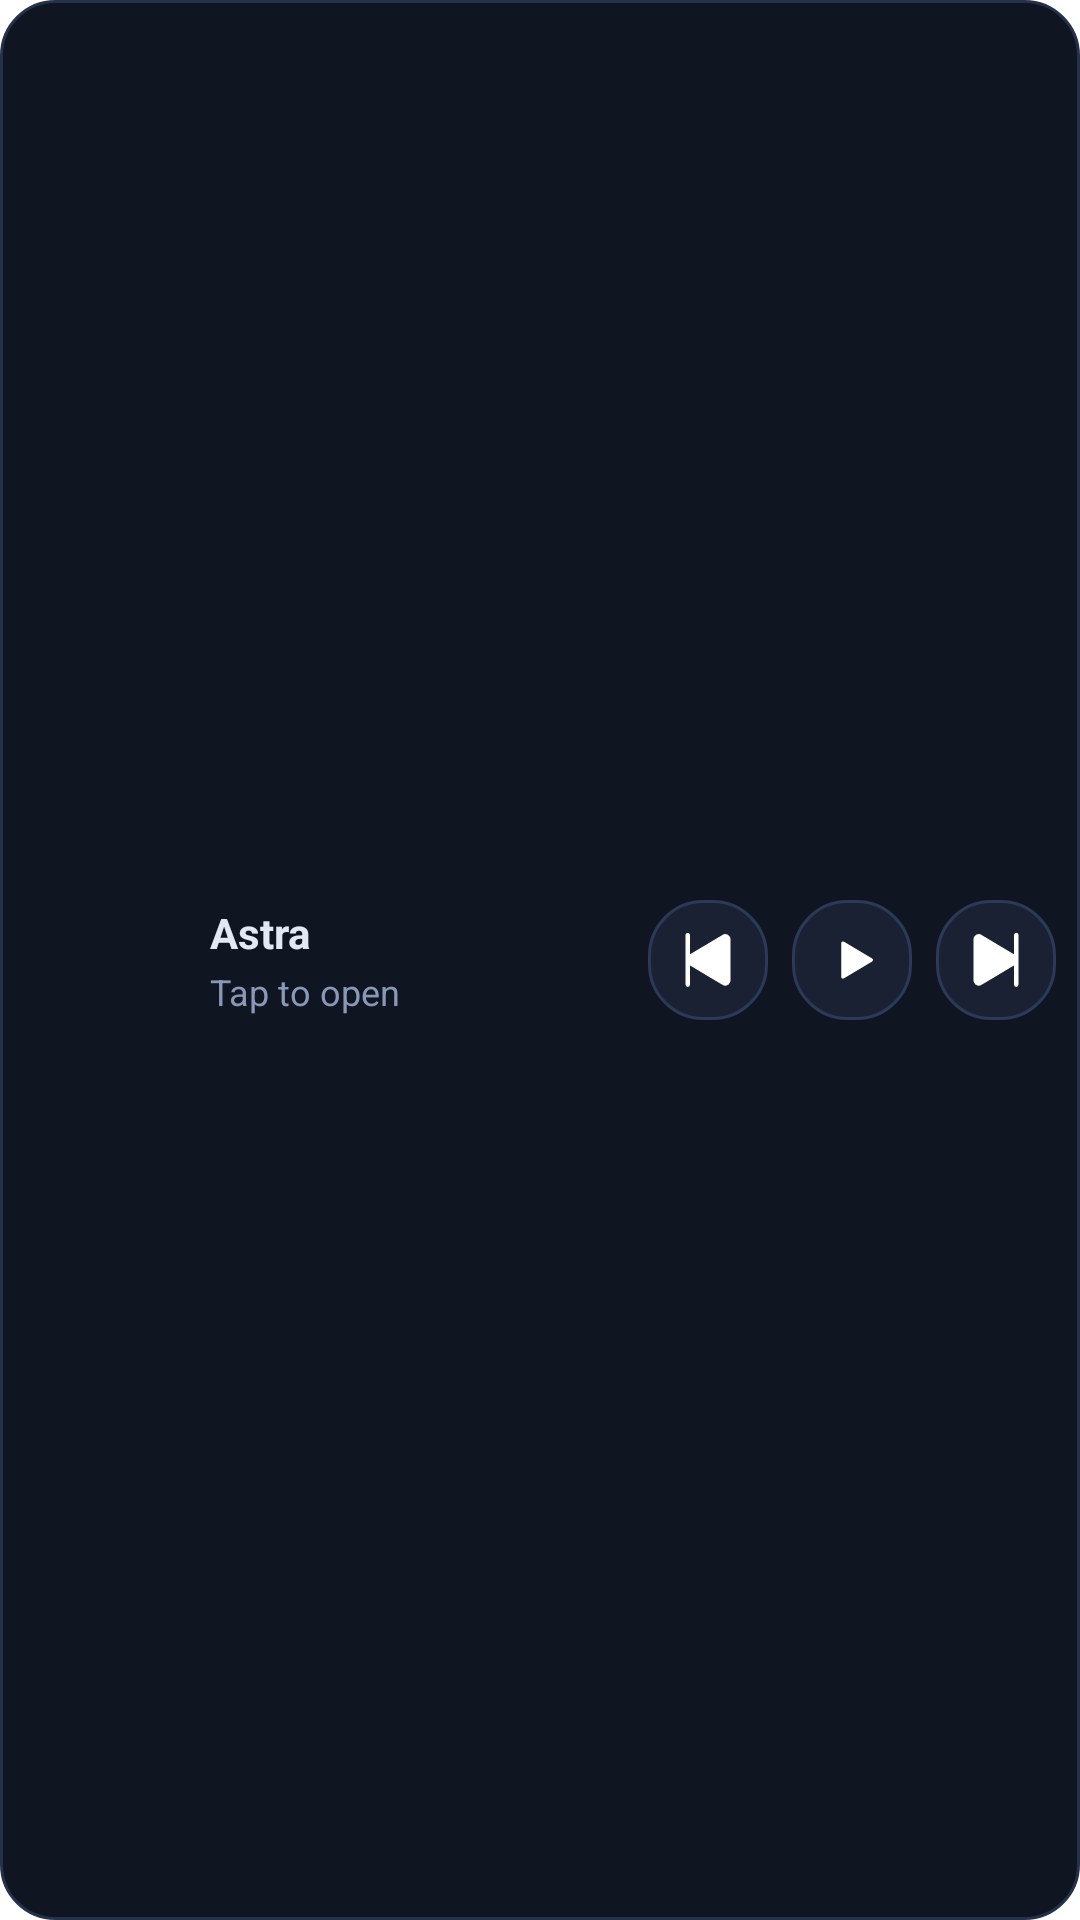

Icon click points for this 1080px×1920px phone screenshot, format point (x, y):
Next: point (996, 960)
Play: point (852, 960)
Previous: point (708, 960)
